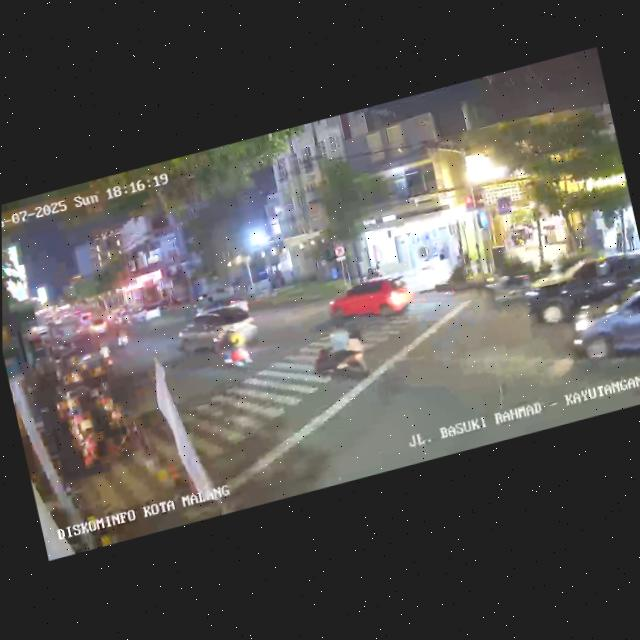car: (521, 243, 640, 330), (562, 285, 640, 388), (325, 269, 417, 337), (174, 296, 262, 366), (78, 310, 111, 340)
motorcycle: (305, 315, 372, 390), (211, 317, 255, 378), (95, 338, 116, 374), (111, 318, 132, 350)
person: (610, 220, 625, 253), (622, 221, 638, 250)
